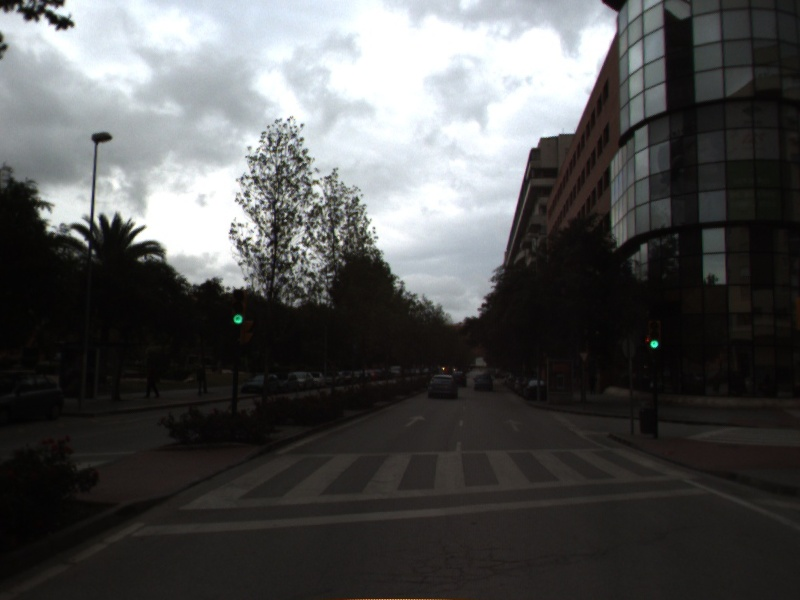STRAIGHT: (402, 414, 428, 429), (501, 417, 525, 433)
